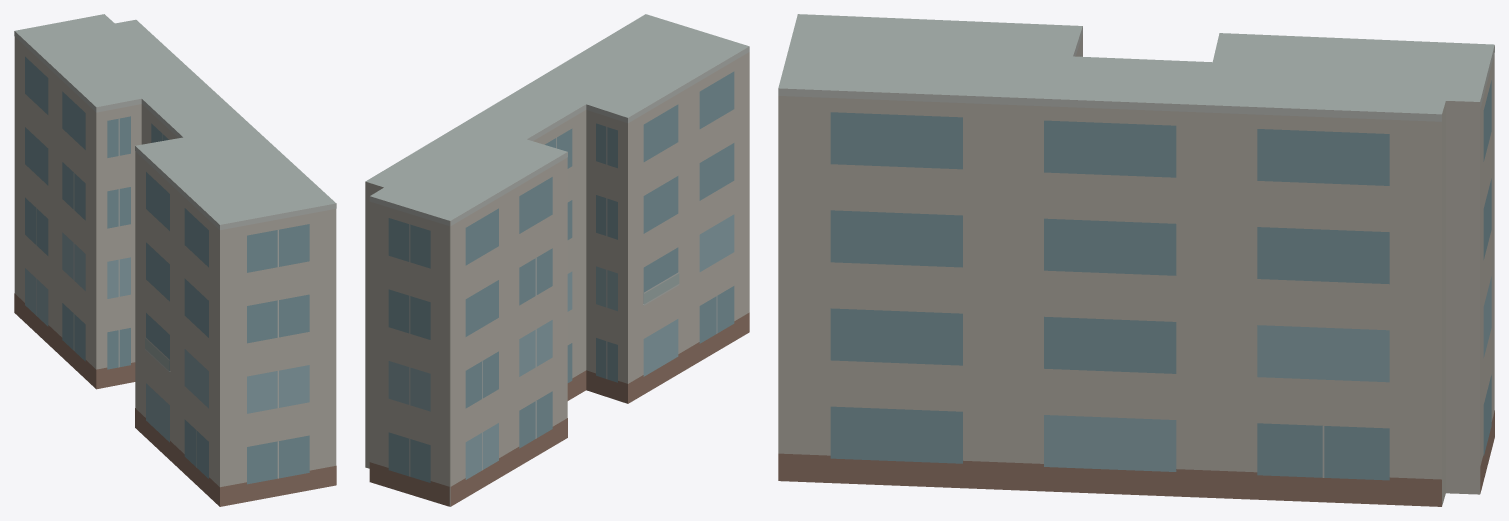
Rendered from survey-upis-32839143.glb.
3 renders of one model, left to right at view 1: azimuth 30°, elevation 25°; view 2: azimuth 150°, elevation 25°; view 3: azimuth 270°, elevation 25°, orthographic. The views are drawn at different scales.
Parts seen in each view (by area): view 1: survey-upis-32839143.tmp; view 2: survey-upis-32839143.tmp; view 3: survey-upis-32839143.tmp.
Boxes of the visible parts, box(x1,y1,x2,y2) form: survey-upis-32839143.tmp: box(14, 14, 336, 506); survey-upis-32839143.tmp: box(365, 14, 749, 506); survey-upis-32839143.tmp: box(778, 14, 1494, 506).
Bounding box in the file's own units: 7.08 × 12.9 × 21.35.
